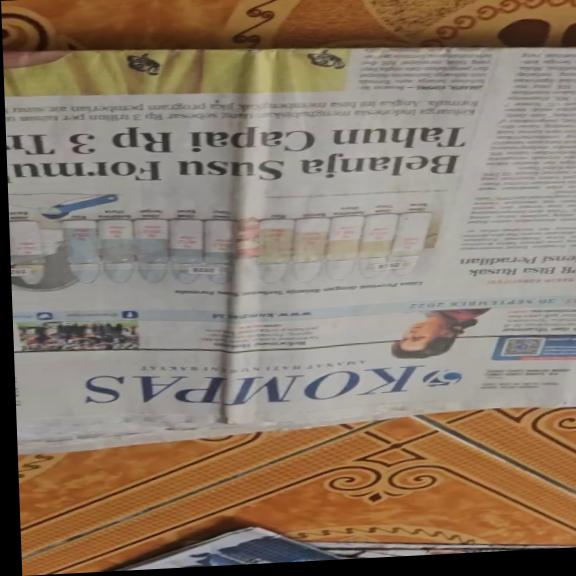Kertas: (8, 21, 576, 451)
